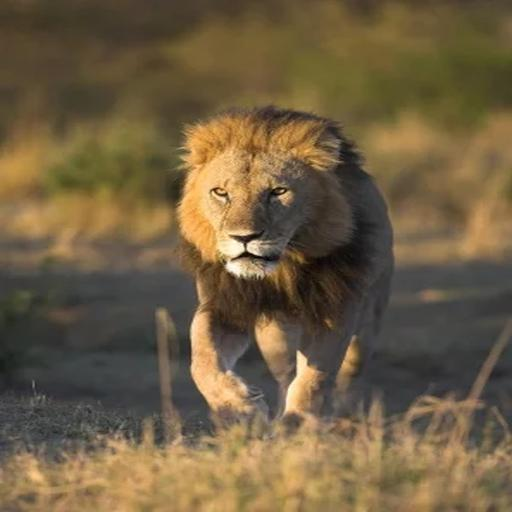Lion: (164, 99, 403, 445)
